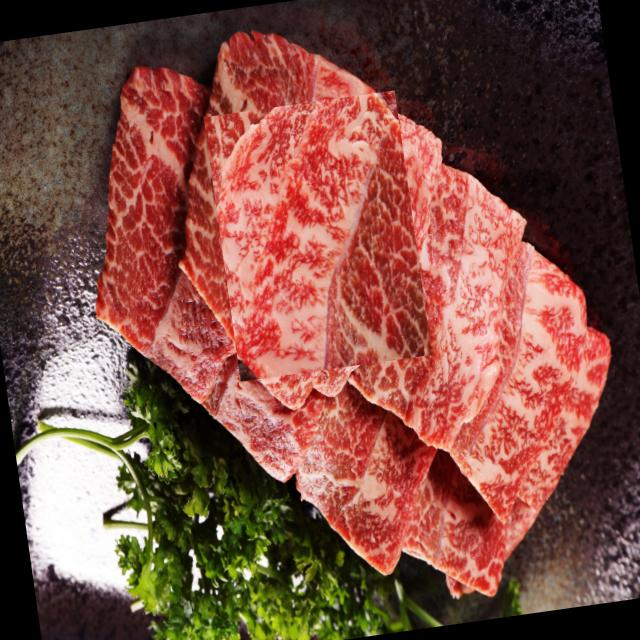beef: (203, 90, 432, 382)
